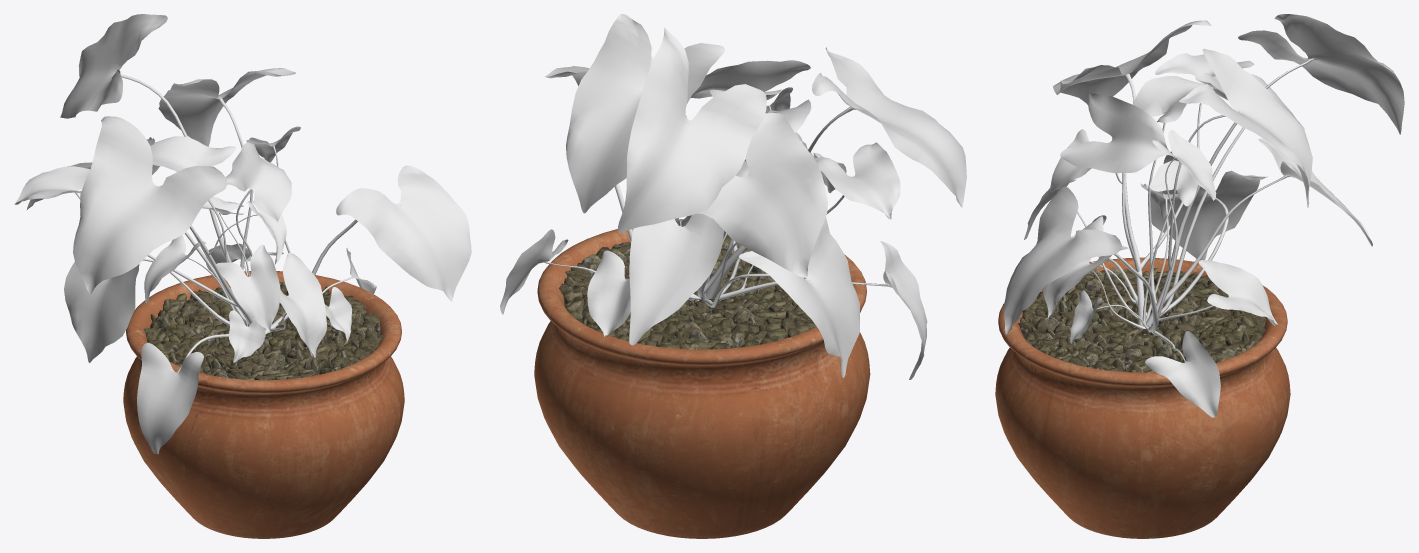
The model's file is potted_plant_02_1k.fbx.
3 views of the same model, side by side, from view 1: azimuth 30°, elevation 25°; view 2: azimuth 150°, elevation 25°; view 3: azimuth 270°, elevation 25° (orthographic). The views are drawn at different scales.
Parts seen in each view (by area): view 1: potted_plant_02_leaves, potted_plant_02_pot, potted_plant_02_dirt; view 2: potted_plant_02_leaves, potted_plant_02_pot, potted_plant_02_dirt; view 3: potted_plant_02_leaves, potted_plant_02_pot, potted_plant_02_dirt.
Part boxes in pixels (left/top/right/bottom): potted_plant_02_leaves: left=14, top=14, right=471, bottom=454; potted_plant_02_pot: left=123, top=271, right=404, bottom=538; potted_plant_02_dirt: left=143, top=282, right=383, bottom=380; potted_plant_02_leaves: left=500, top=14, right=966, bottom=379; potted_plant_02_pot: left=534, top=219, right=870, bottom=538; potted_plant_02_dirt: left=559, top=234, right=816, bottom=349; potted_plant_02_leaves: left=1004, top=14, right=1404, bottom=417; potted_plant_02_pot: left=995, top=257, right=1290, bottom=538; potted_plant_02_dirt: left=1018, top=267, right=1266, bottom=372.
Bounding box in the file's own units: 70.12 × 84.12 × 65.74.
Materials: 2 (1 with a texture image).
